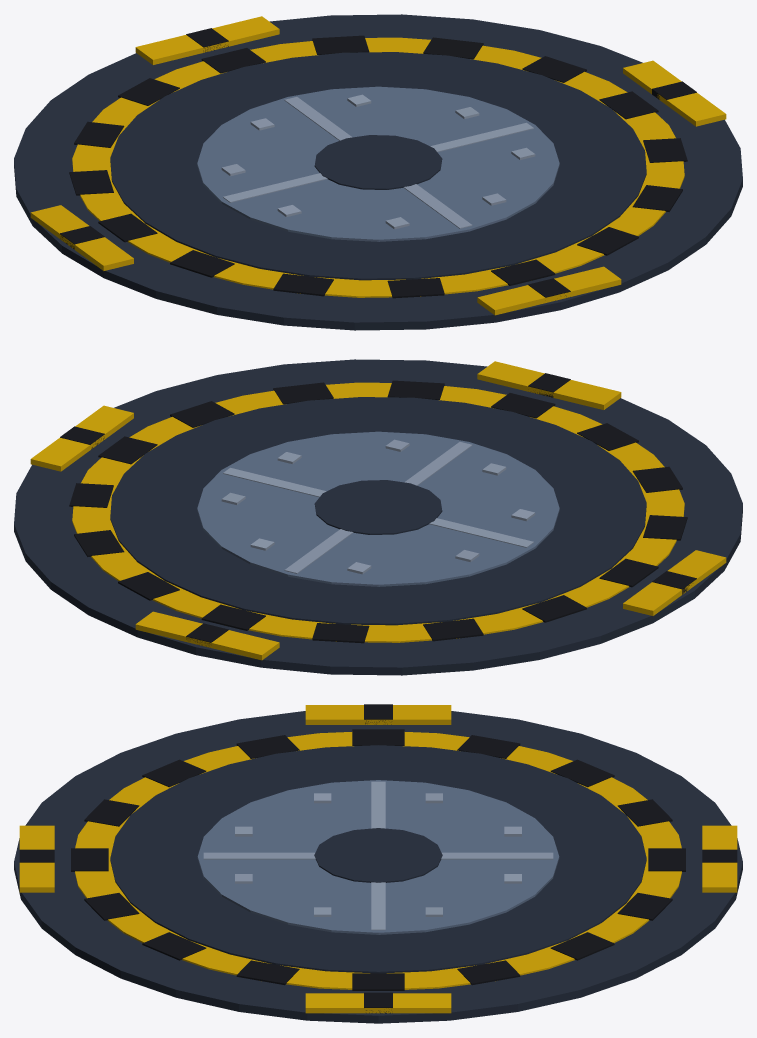
The model's file is Decor_MechaHangar_Turntable.fbx.
3 views of the same model, one above another, from view 1: azimuth 30°, elevation 25°; view 2: azimuth 150°, elevation 25°; view 3: azimuth 270°, elevation 25° (orthographic).
Parts seen in each view (by area): view 1: Turntable_Body; view 2: Turntable_Body; view 3: Turntable_Body.
Boxes of the visible parts, x1,y1,x2,y2 form: Turntable_Body: (14,14,742,330); Turntable_Body: (14,359,742,675); Turntable_Body: (14,704,742,1023).
Bounding box in the file's own units: 25 × 0.59 × 25.
